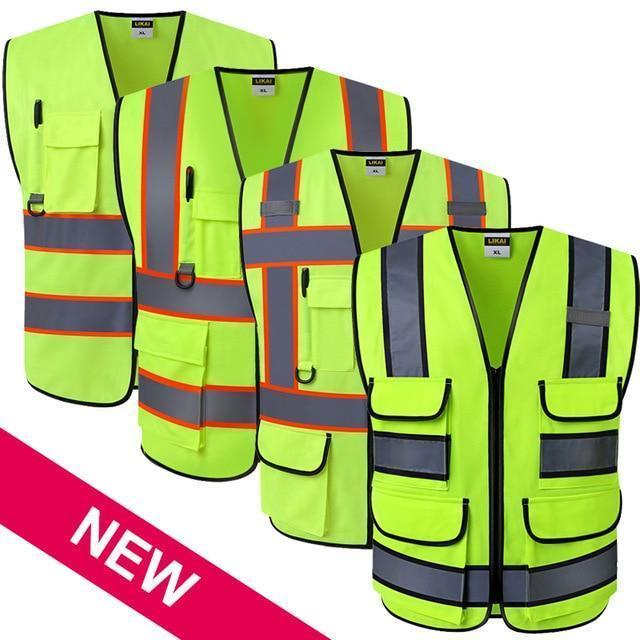vest: (115, 61, 415, 484), (350, 225, 639, 636), (1, 11, 279, 402), (239, 154, 512, 548)
